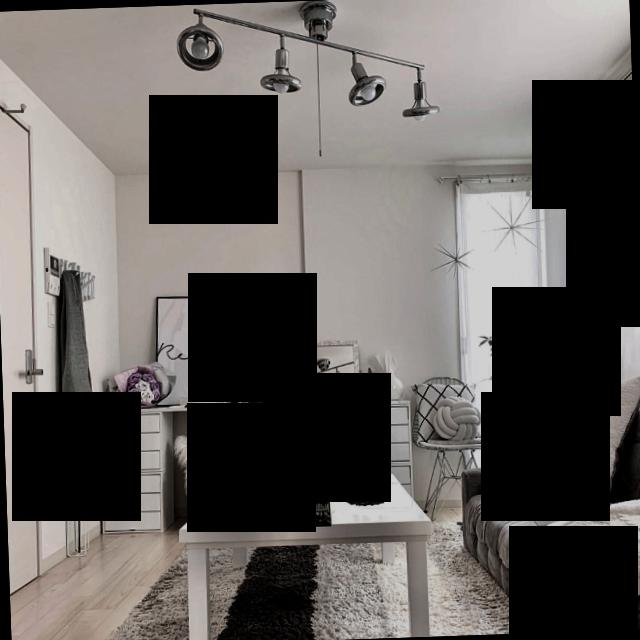white desk: (174, 473, 437, 640)
white sofa: (449, 376, 640, 635)
